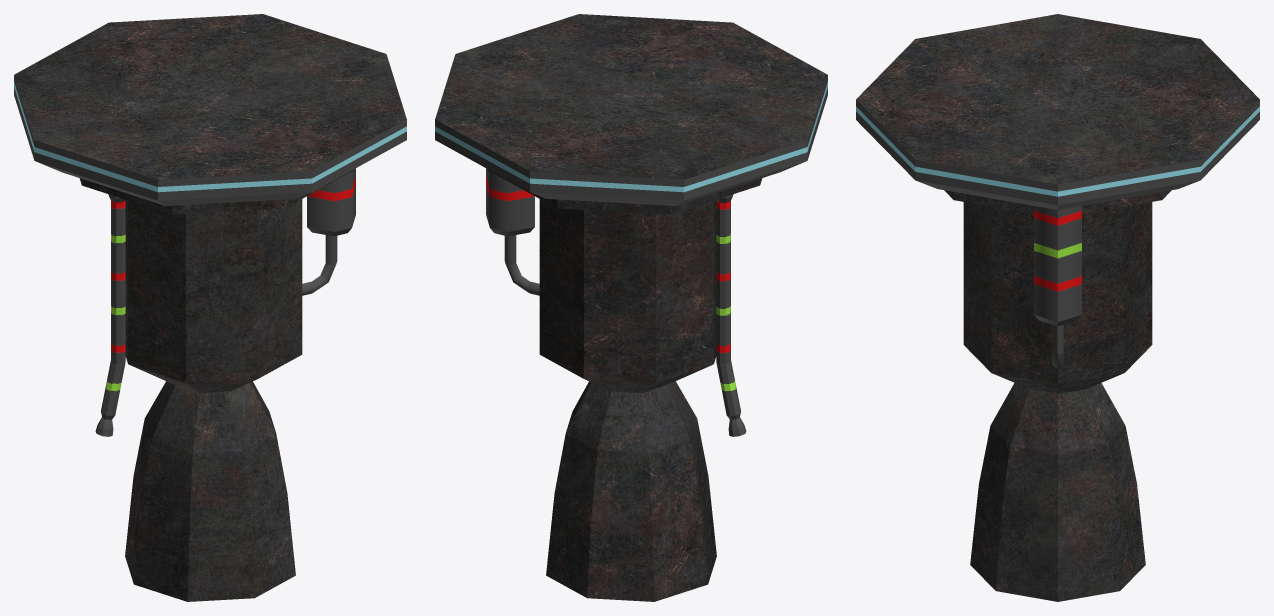
File: Rocket_part.fbx
3 views of the same model, side by side, from view 1: azimuth 30°, elevation 25°; view 2: azimuth 150°, elevation 25°; view 3: azimuth 270°, elevation 25° (orthographic).
Parts seen in each view (by area): view 1: LiquidFuelEngine_Medium_1; view 2: LiquidFuelEngine_Medium_1; view 3: LiquidFuelEngine_Medium_1.
Part boxes in pixels (x1,y1,x2,y2): LiquidFuelEngine_Medium_1: (14,14,406,601); LiquidFuelEngine_Medium_1: (435,14,827,601); LiquidFuelEngine_Medium_1: (856,14,1259,601).
Bounding box in the file's own units: 200 × 254 × 200.
